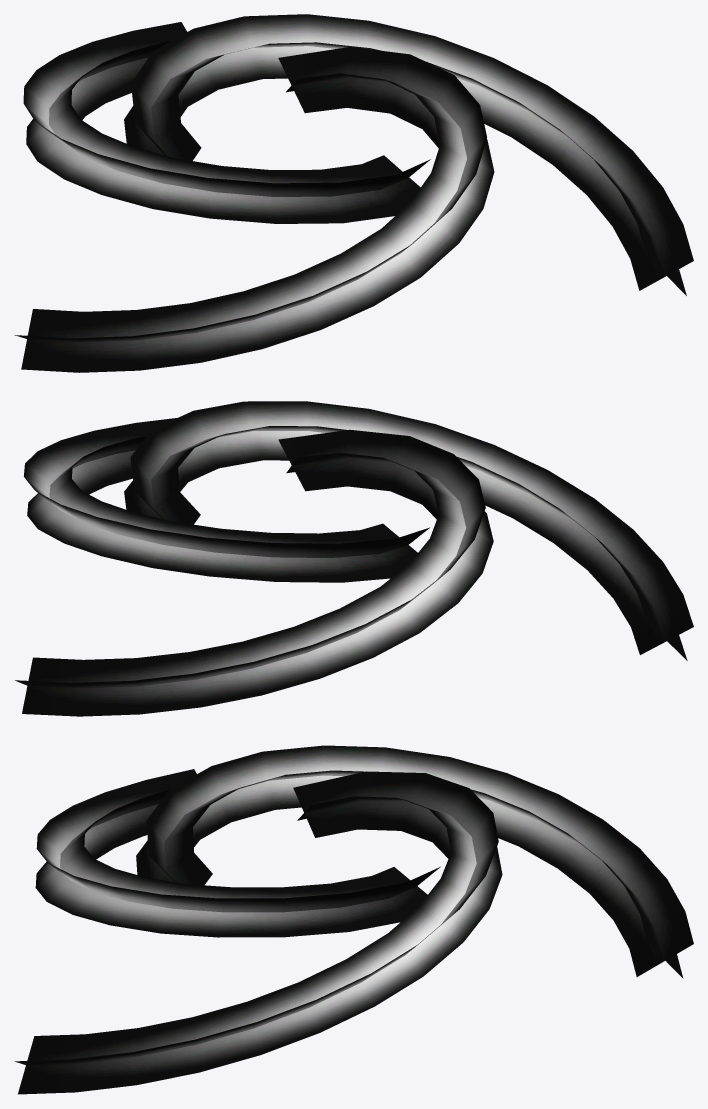
File: vfx_kurp_0178.dae
3 views of the same model, one above another, from view 1: azimuth 30°, elevation 25°; view 2: azimuth 150°, elevation 25°; view 3: azimuth 270°, elevation 25° (orthographic). The views are drawn at different scales.
Parts seen in each view (by area): view 1: vfx_kurp_0178; view 2: vfx_kurp_0178; view 3: vfx_kurp_0178.
Boxes of the visible parts, x1,y1,x2,y2 form: vfx_kurp_0178: (14, 14, 693, 372); vfx_kurp_0178: (15, 401, 693, 716); vfx_kurp_0178: (14, 745, 693, 1094).
Size of the model in its own units: 12.68 by 12.03 by 3.06.
Materials: 1 (1 with a texture image).
